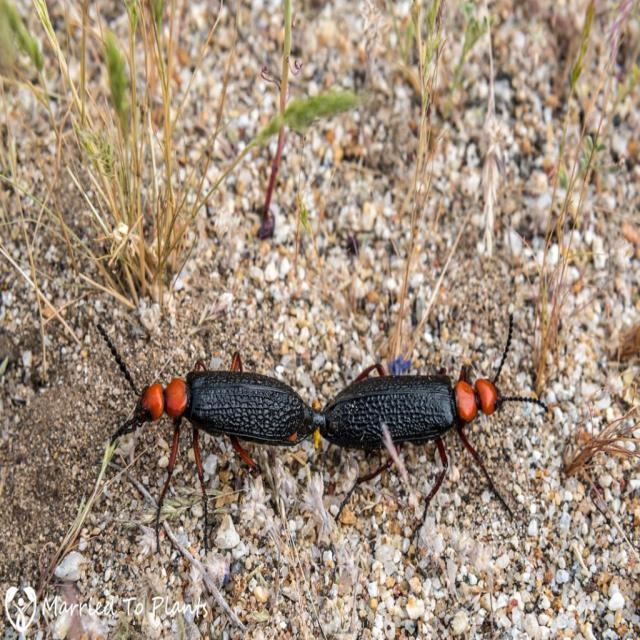BlisterBeetle-Adult-: (316, 336, 537, 519), (97, 336, 320, 507)
